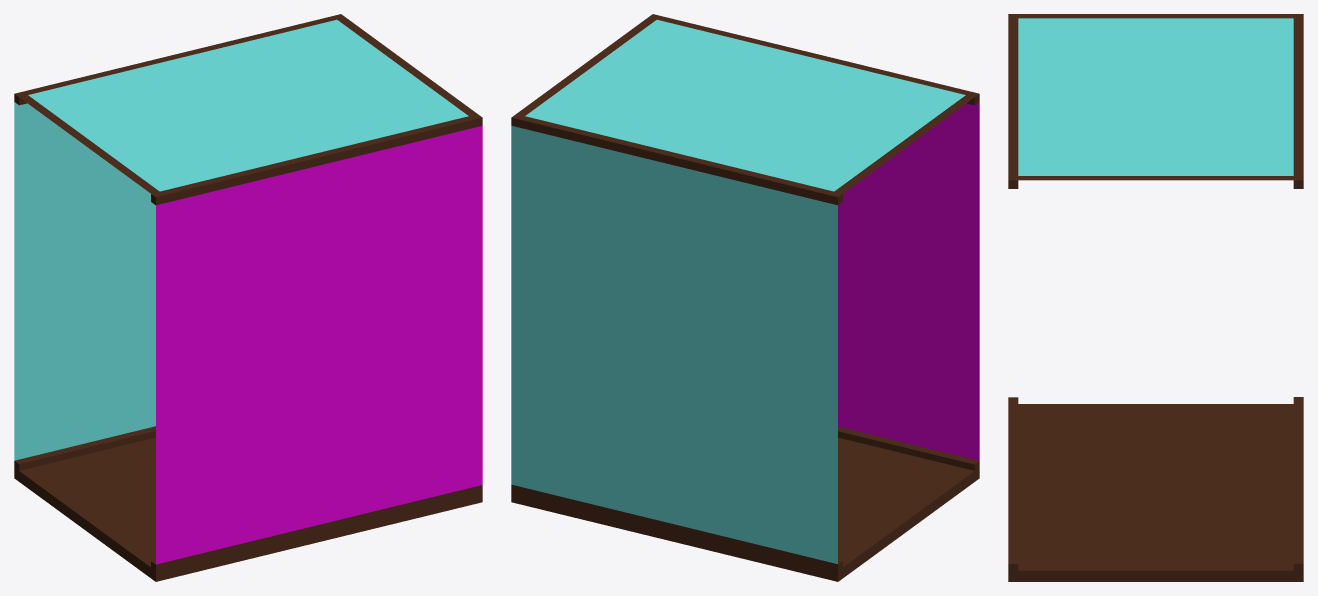
Rendered from TerrariumCenter.fbx.
The picture shows the model from 3 angles, left to right: view 1: azimuth 30°, elevation 25°; view 2: azimuth 150°, elevation 25°; view 3: azimuth 270°, elevation 25°; orthographic projection. The views are drawn at different scales.
Visible parts, largest first — view 1: Terrarium center; view 2: Terrarium center; view 3: Terrarium center.
Part boxes in pixels (x1,y1,x2,y2): Terrarium center: (14,14,482,581); Terrarium center: (511,14,979,581); Terrarium center: (1008,14,1303,581).
Bounding box in the file's own units: 400 × 450 × 300.
